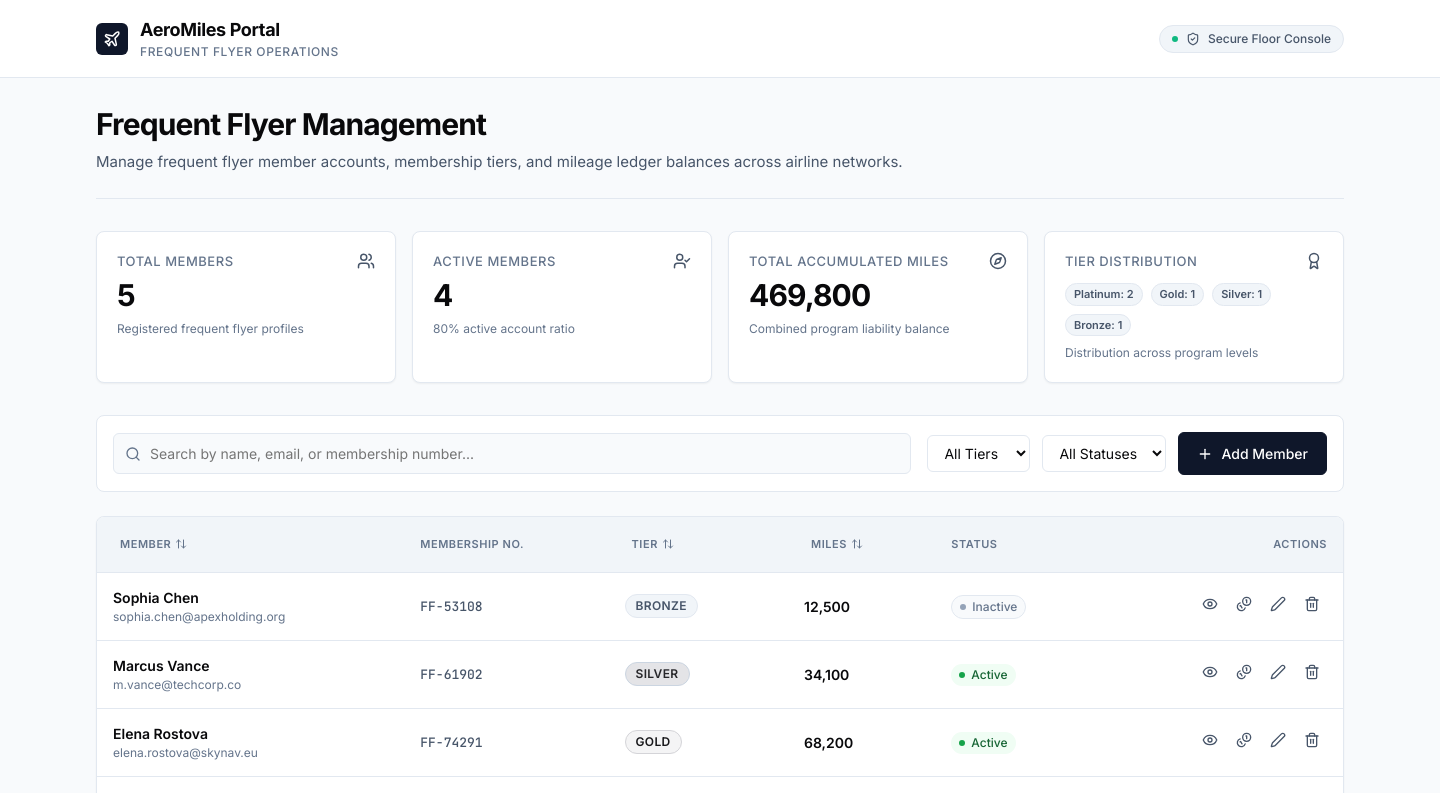
Unhappy-Path Tests (TRD Section 9) › 4. Invalid email addresses are rejected with appropriate error
The image size is (1440, 793).
Step 1. Click the button "Add Member" → (1253, 454), box [1178,432,1327,475]
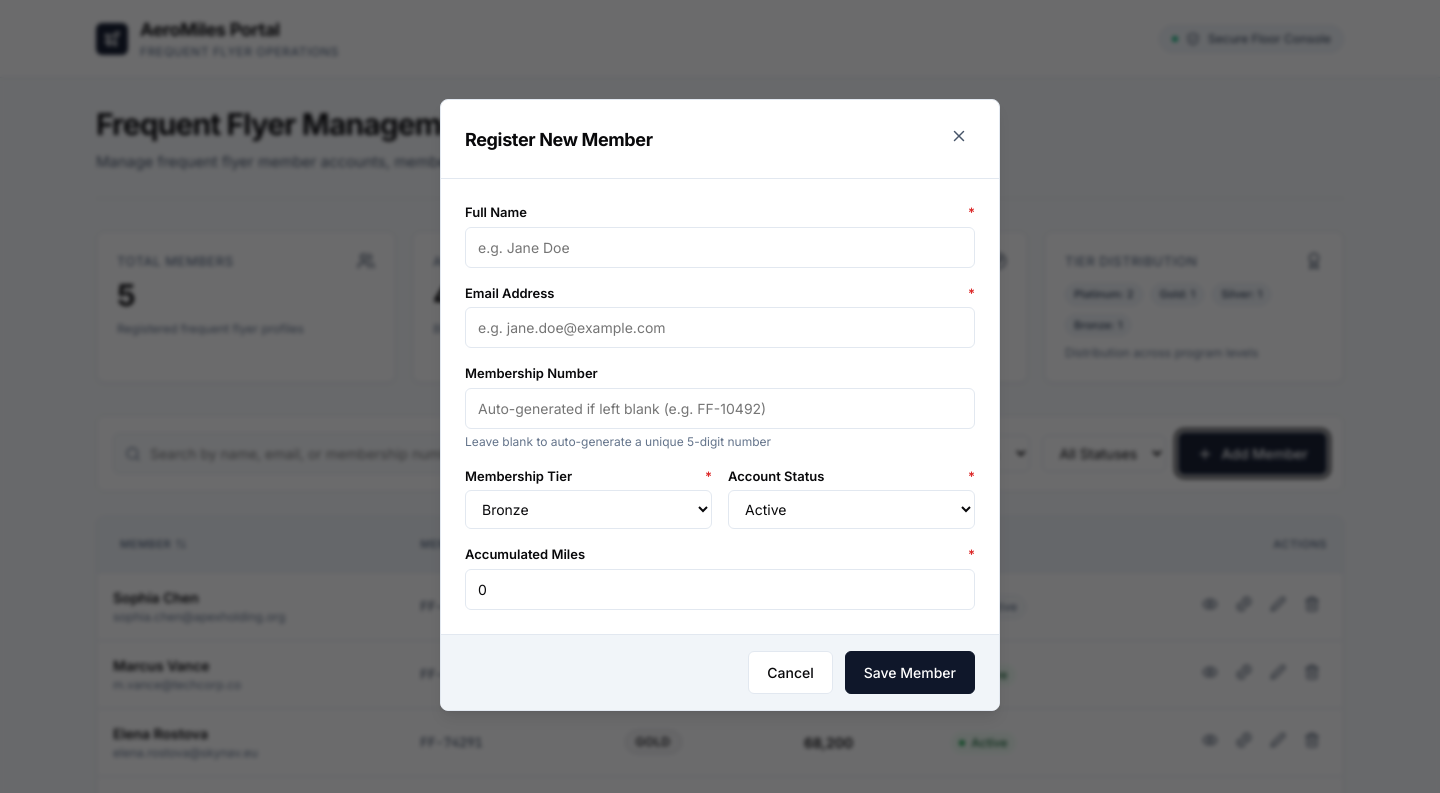
Step 2. Type "Steve Rogers" into the field labelled "Full Name *" → (720, 247), box [465,227,975,268]
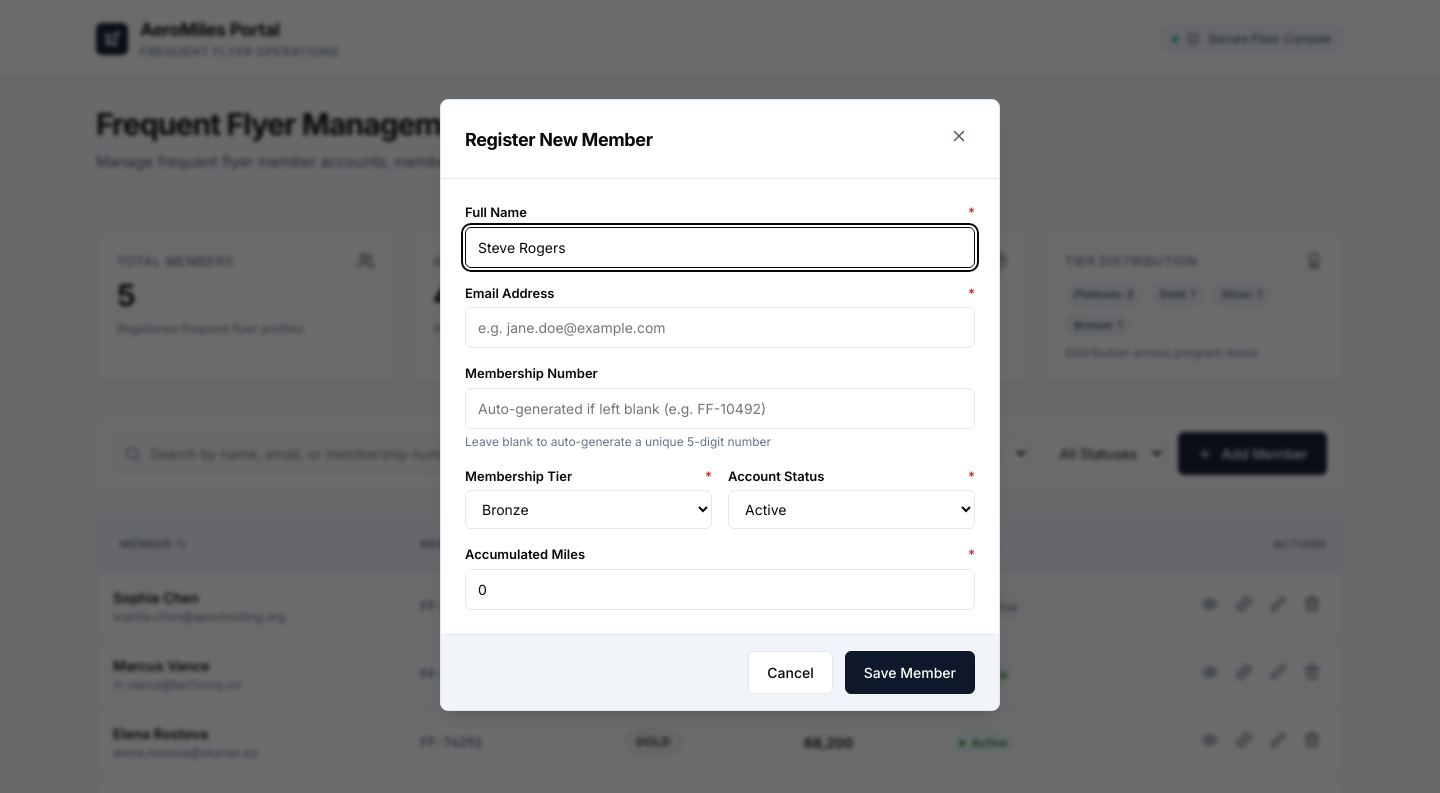
Step 3. Type "invalid-email-format" into the field labelled "Email Address *" → (720, 328), box [465,307,975,348]
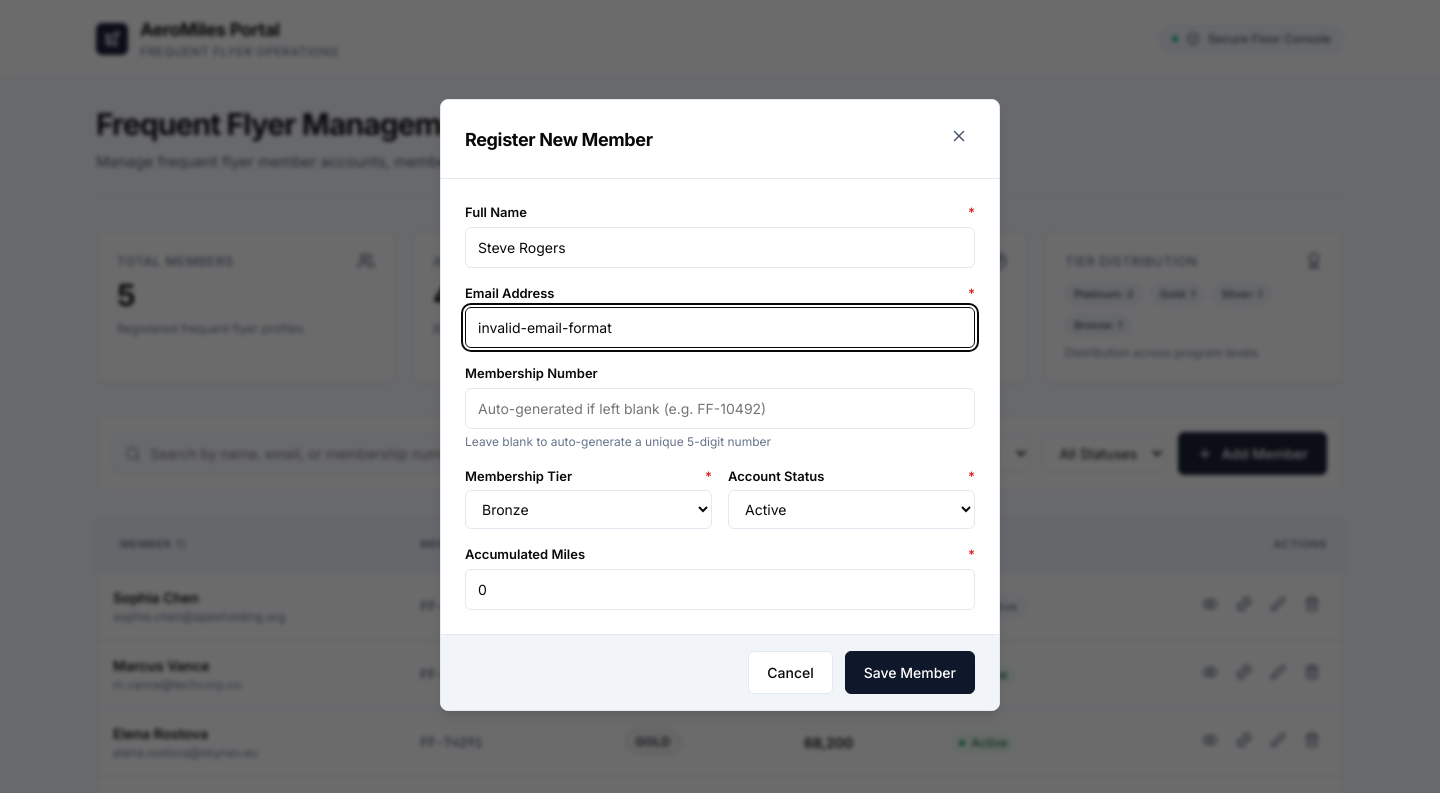
Step 4. Click the button "Save Member" → (910, 672), box [845,651,975,694]
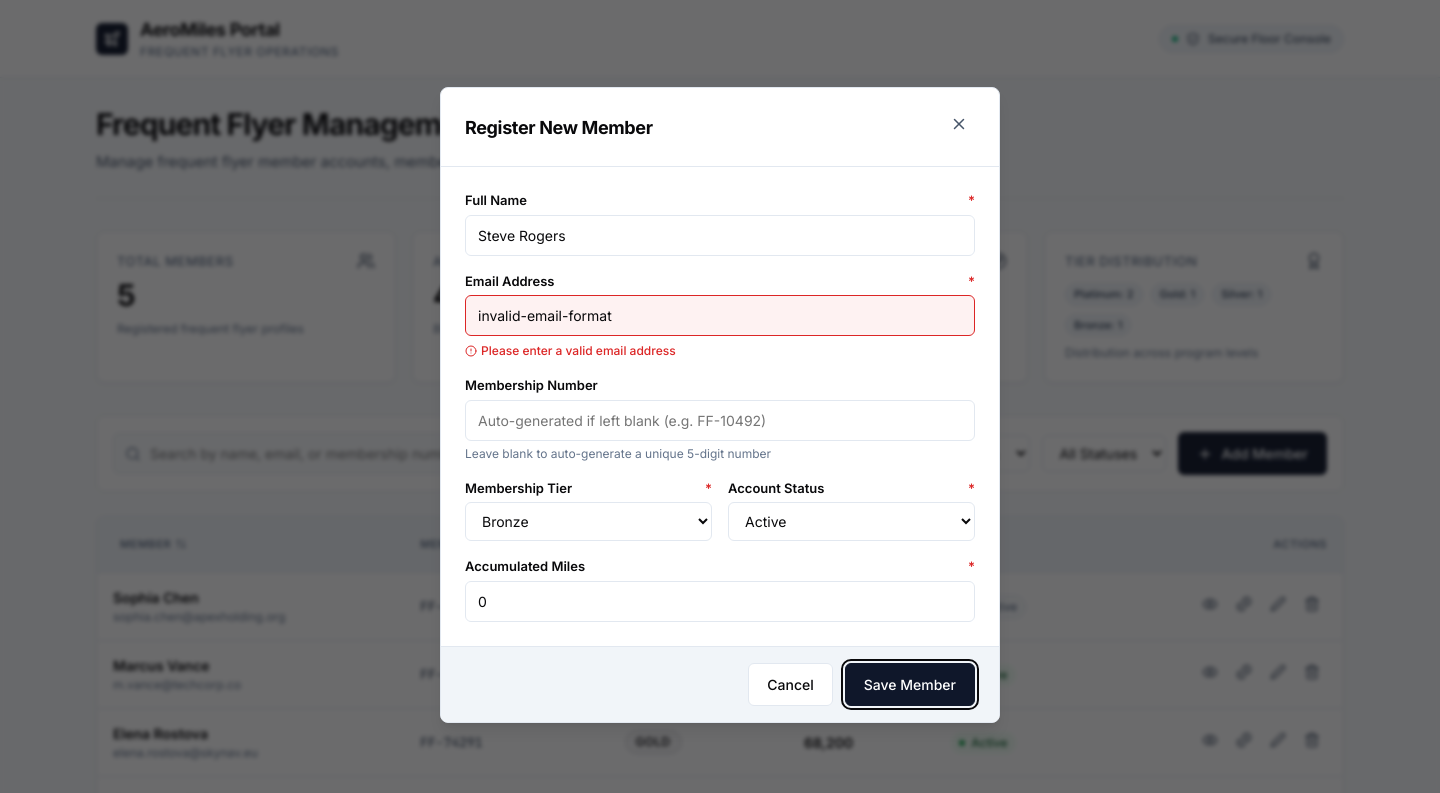
expect the text "Please enter a valid email address" is shown: met, box [465,343,676,358]
